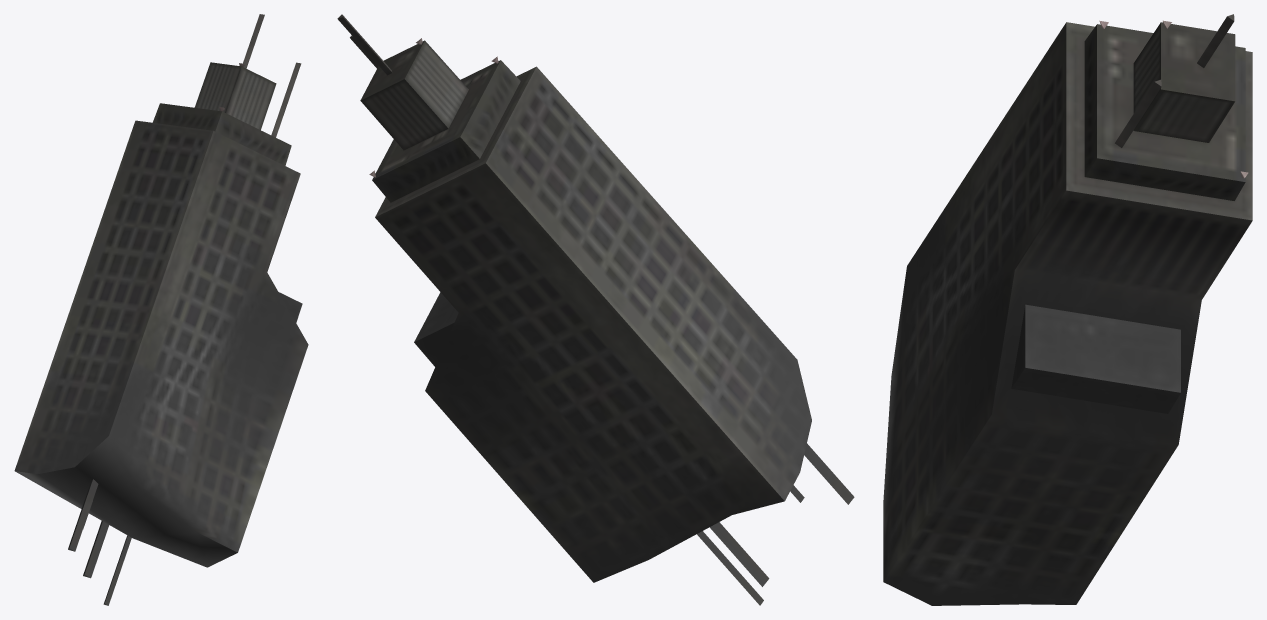
The model's file is skyBuildingAAB_pos_grp (22).fbx.
3 views of the same model, side by side, from view 1: azimuth 30°, elevation 25°; view 2: azimuth 150°, elevation 25°; view 3: azimuth 270°, elevation 25° (orthographic). The views are drawn at different scales.
Visible parts, largest first — view 1: skyBuildingAAB_geo; view 2: skyBuildingAAB_geo; view 3: skyBuildingAAB_geo.
Boxes of the visible parts, left/top/right/bottom form: skyBuildingAAB_geo: left=14, top=14, right=308, bottom=605; skyBuildingAAB_geo: left=337, top=14, right=854, bottom=605; skyBuildingAAB_geo: left=883, top=14, right=1252, bottom=605.
Size of the model in its own units: 7.27 by 10.36 by 4.69.
1 material, 1 textured.
